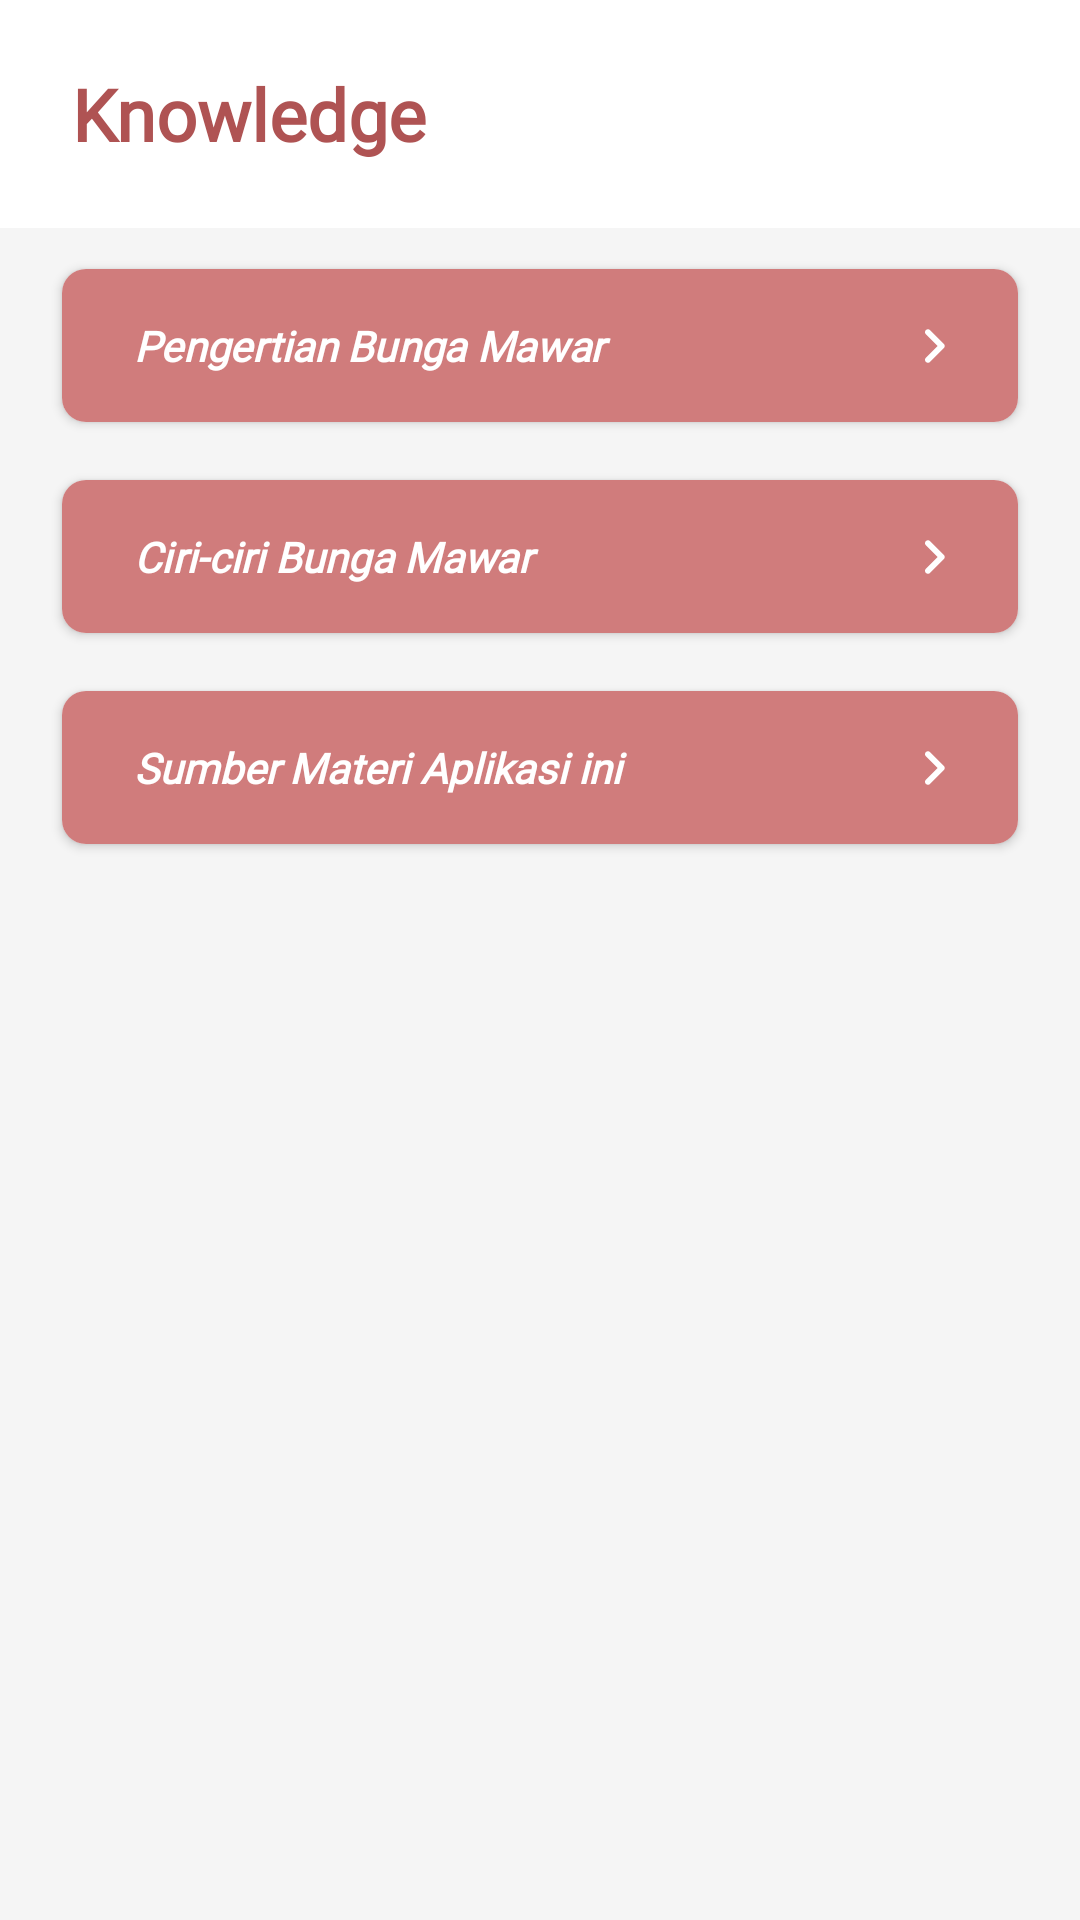

Locate icon controls on the screen. Image size 1080×1920, boxes as box(x1, y1, x2, y2).
arrow right: box(925, 329, 945, 363), box(925, 540, 945, 574), box(925, 751, 945, 785)
